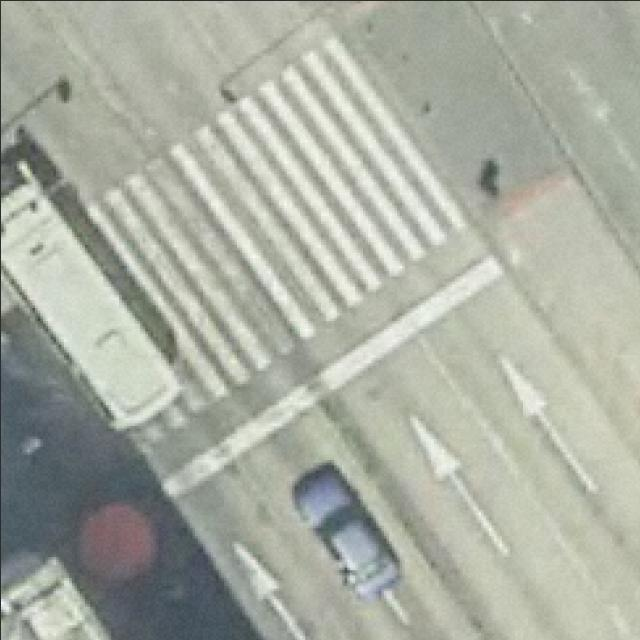vendedor_ambulante: (72, 499, 160, 584)
